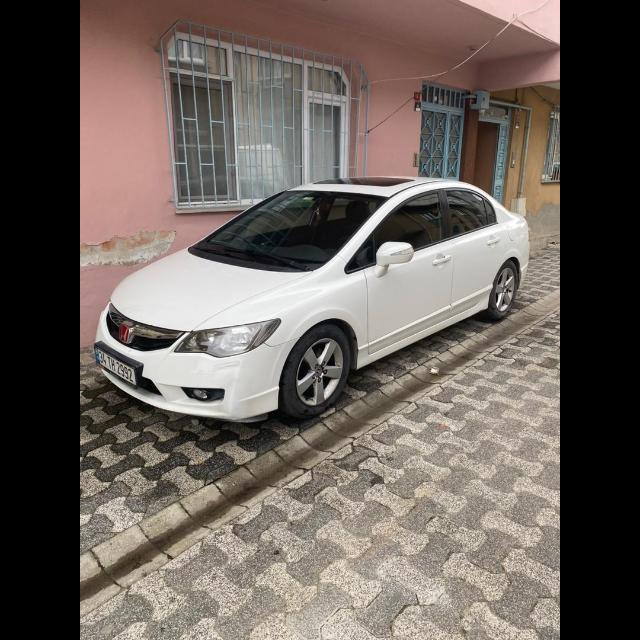Plaka: (96, 348, 138, 384)
